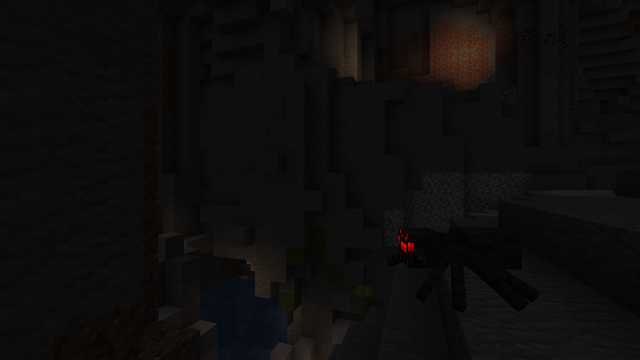araignees: (398, 217, 516, 311)
